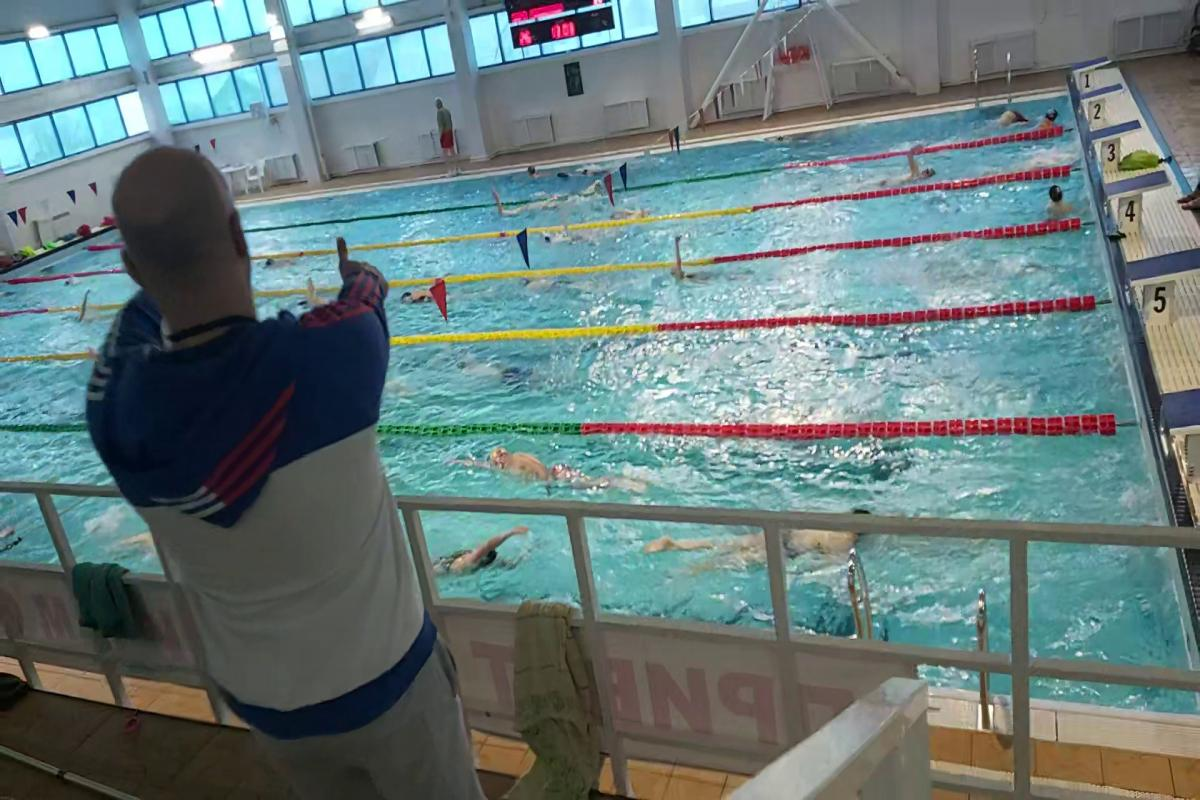swimmer: (447, 437, 620, 493), (431, 529, 539, 582), (786, 528, 864, 576), (660, 236, 721, 284), (892, 144, 946, 182), (1043, 182, 1083, 219), (397, 282, 442, 309)
